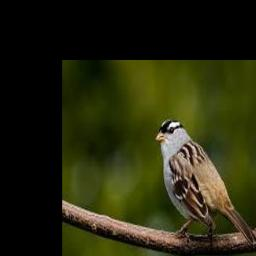Sparrow: (155, 118, 256, 249)
